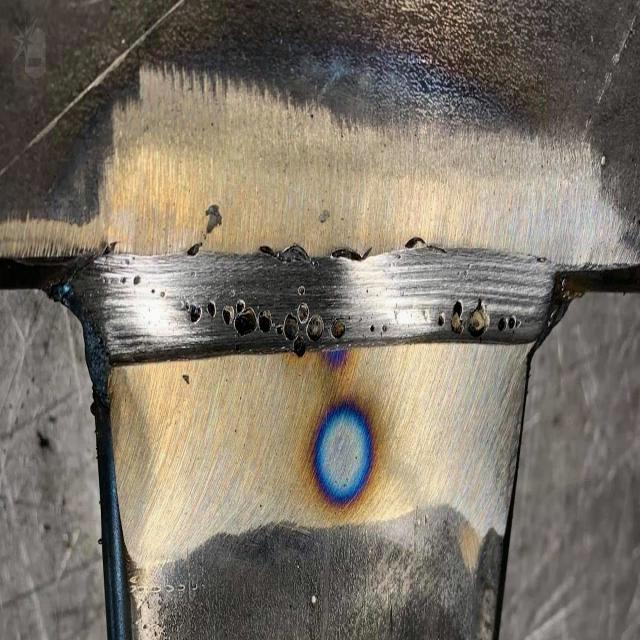defect: (183, 283, 327, 361), (432, 294, 491, 341), (495, 308, 522, 338), (329, 316, 351, 343), (115, 271, 143, 291), (149, 287, 168, 301), (368, 322, 376, 339), (380, 324, 389, 333)
